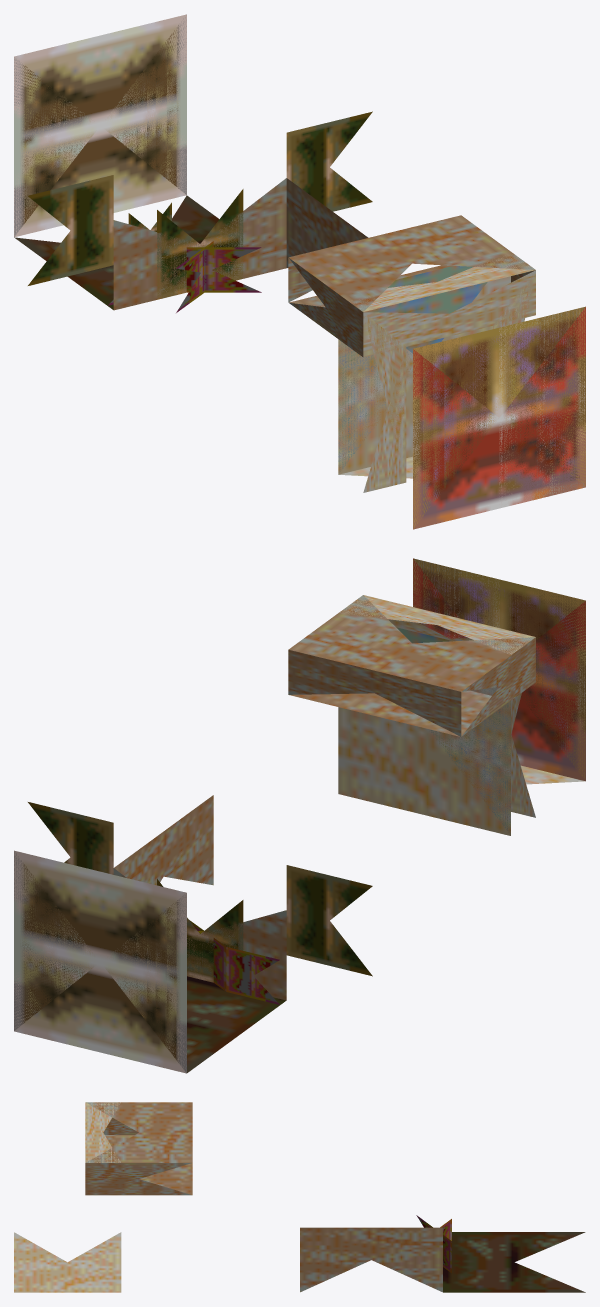
Rendered from town_geometry_type_13.obj.
3 views of the same model, one above another, from view 1: azimuth 30°, elevation 25°; view 2: azimuth 150°, elevation 25°; view 3: azimuth 270°, elevation 25° (orthographic). The views are drawn at different scales.
Parts seen in each view (by area): view 1: face_list_000, face_list_044, face_list_029, face_list_061, face_list_068, face_list_035, face_list_046, face_list_062, face_list_048, face_list_066, face_list_065, face_list_027 (+4 smaller); view 2: face_list_044, face_list_061, face_list_068, face_list_046, face_list_029, face_list_000, face_list_035, face_list_066, face_list_062, face_list_048, face_list_065, face_list_031 (+2 smaller); view 3: face_list_029, face_list_068, face_list_061, face_list_030.
Boxes of the visible parts, x1,y1,x2,y2 form: face_list_000: [413, 307, 585, 529]; face_list_044: [14, 14, 186, 236]; face_list_029: [14, 178, 368, 310]; face_list_061: [338, 254, 535, 492]; face_list_068: [288, 215, 535, 356]; face_list_035: [413, 306, 585, 529]; face_list_046: [14, 17, 186, 237]; face_list_062: [338, 266, 535, 474]; face_list_048: [415, 308, 585, 485]; face_list_066: [28, 175, 113, 285]; face_list_065: [286, 111, 372, 211]; face_list_027: [128, 189, 243, 299]; face_list_044: [14, 850, 186, 1073]; face_list_061: [338, 595, 584, 835]; face_list_068: [288, 595, 535, 736]; face_list_046: [14, 852, 186, 1073]; face_list_029: [113, 795, 286, 1072]; face_list_000: [413, 558, 585, 781]; face_list_035: [414, 558, 585, 778]; face_list_066: [286, 865, 372, 976]; face_list_062: [388, 619, 510, 834]; face_list_048: [413, 559, 585, 638]; face_list_065: [28, 802, 113, 874]; face_list_031: [189, 920, 279, 1004]; face_list_029: [300, 1227, 585, 1292]; face_list_068: [85, 1102, 192, 1195]; face_list_061: [14, 1102, 121, 1292]; face_list_030: [416, 1215, 451, 1273].
Bounding box in the file's own units: 128 × 64 × 256.
33 materials, 33 textured.
